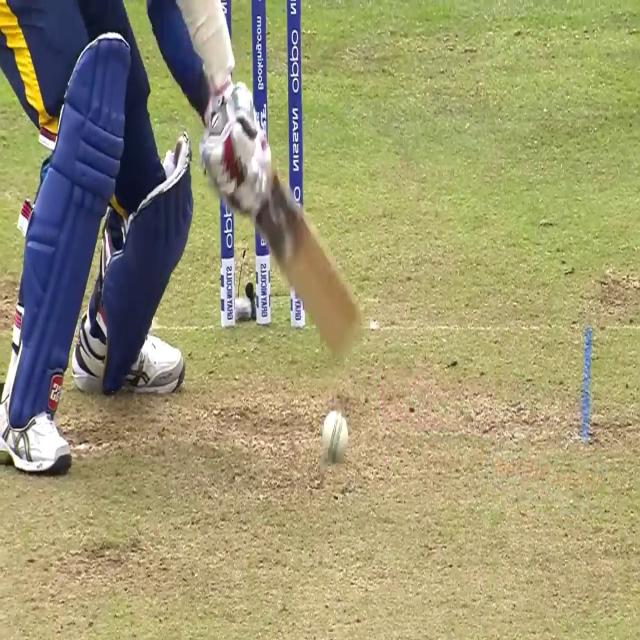ball: (320, 412, 350, 462)
